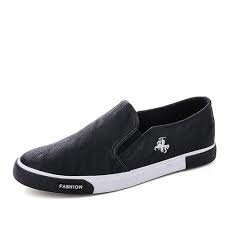Sneakers: (10, 94, 218, 197)
